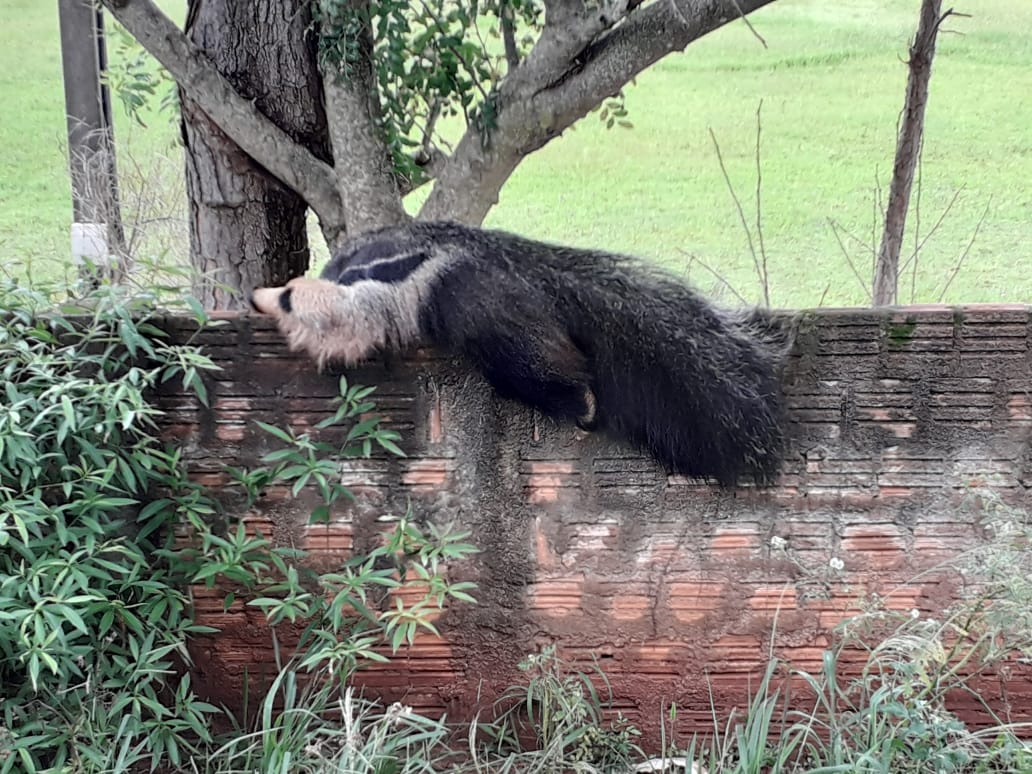TamanduaBandeira: (230, 219, 815, 499)
